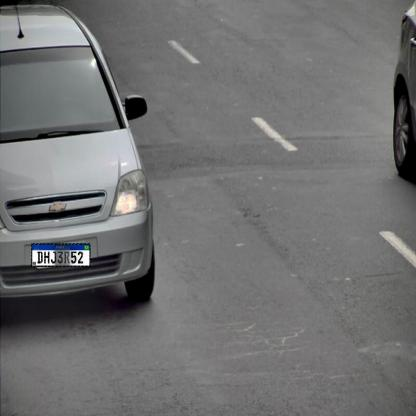PlacaM: (31, 243, 91, 267)
